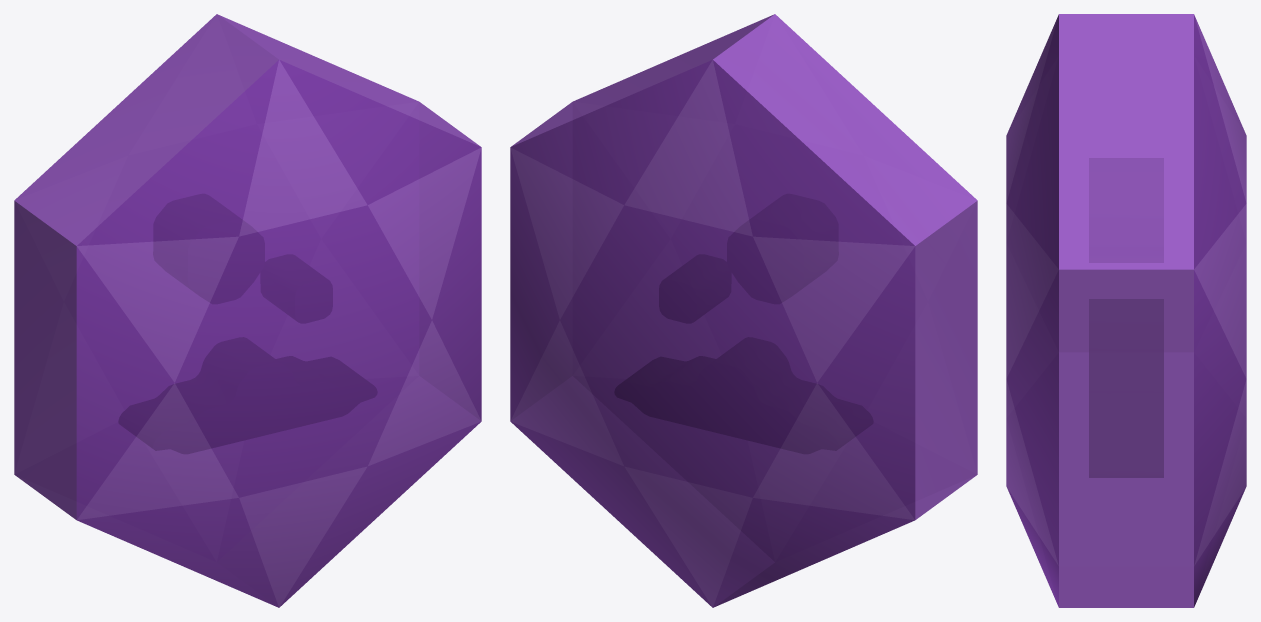
The picture shows the model from 3 angles, left to right: view 1: azimuth 30°, elevation 25°; view 2: azimuth 150°, elevation 25°; view 3: azimuth 270°, elevation 25°; orthographic projection. The views are drawn at different scales.
Parts seen in each view (by area): view 1: body; view 2: body; view 3: body.
Part boxes in pixels (box(x1,y1,x2,y2)): body: box(14, 14, 481, 607); body: box(510, 14, 977, 607); body: box(1006, 14, 1246, 607).
Size of the model in its own units: 0.1933 by 0.25 by 0.0916.
2 materials, 2 textured.
